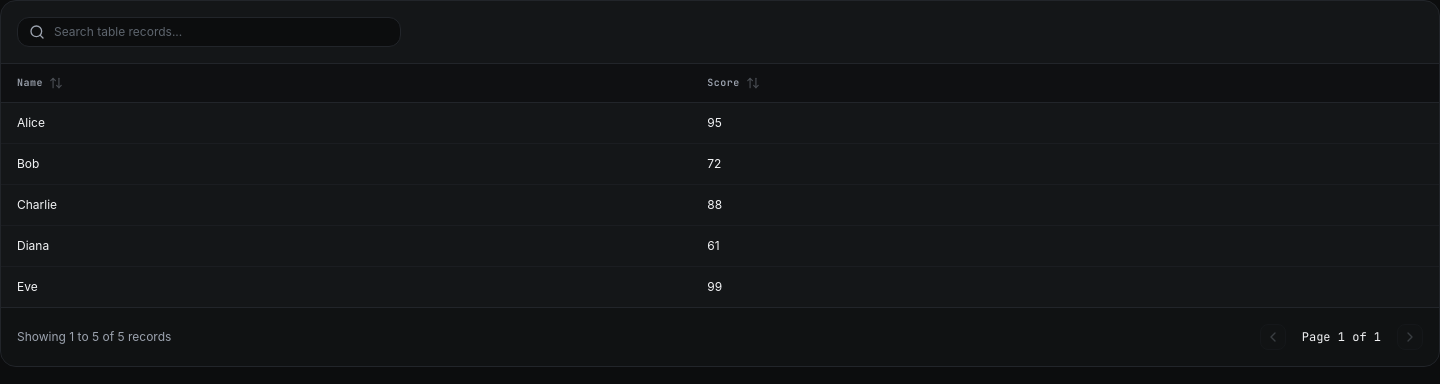
Test: DataTable › shows empty message when search has no matches
In the field with placeholder "Search table records...": [209, 32] box [17,17,401,47], type "zzzz"
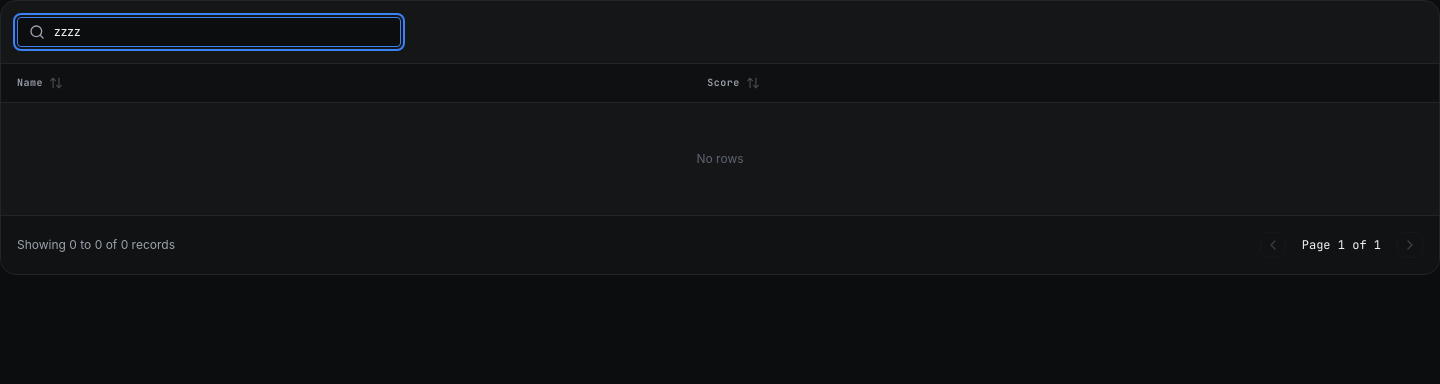
Now the text "No rows" is shown, box [1,102,1439,215]
